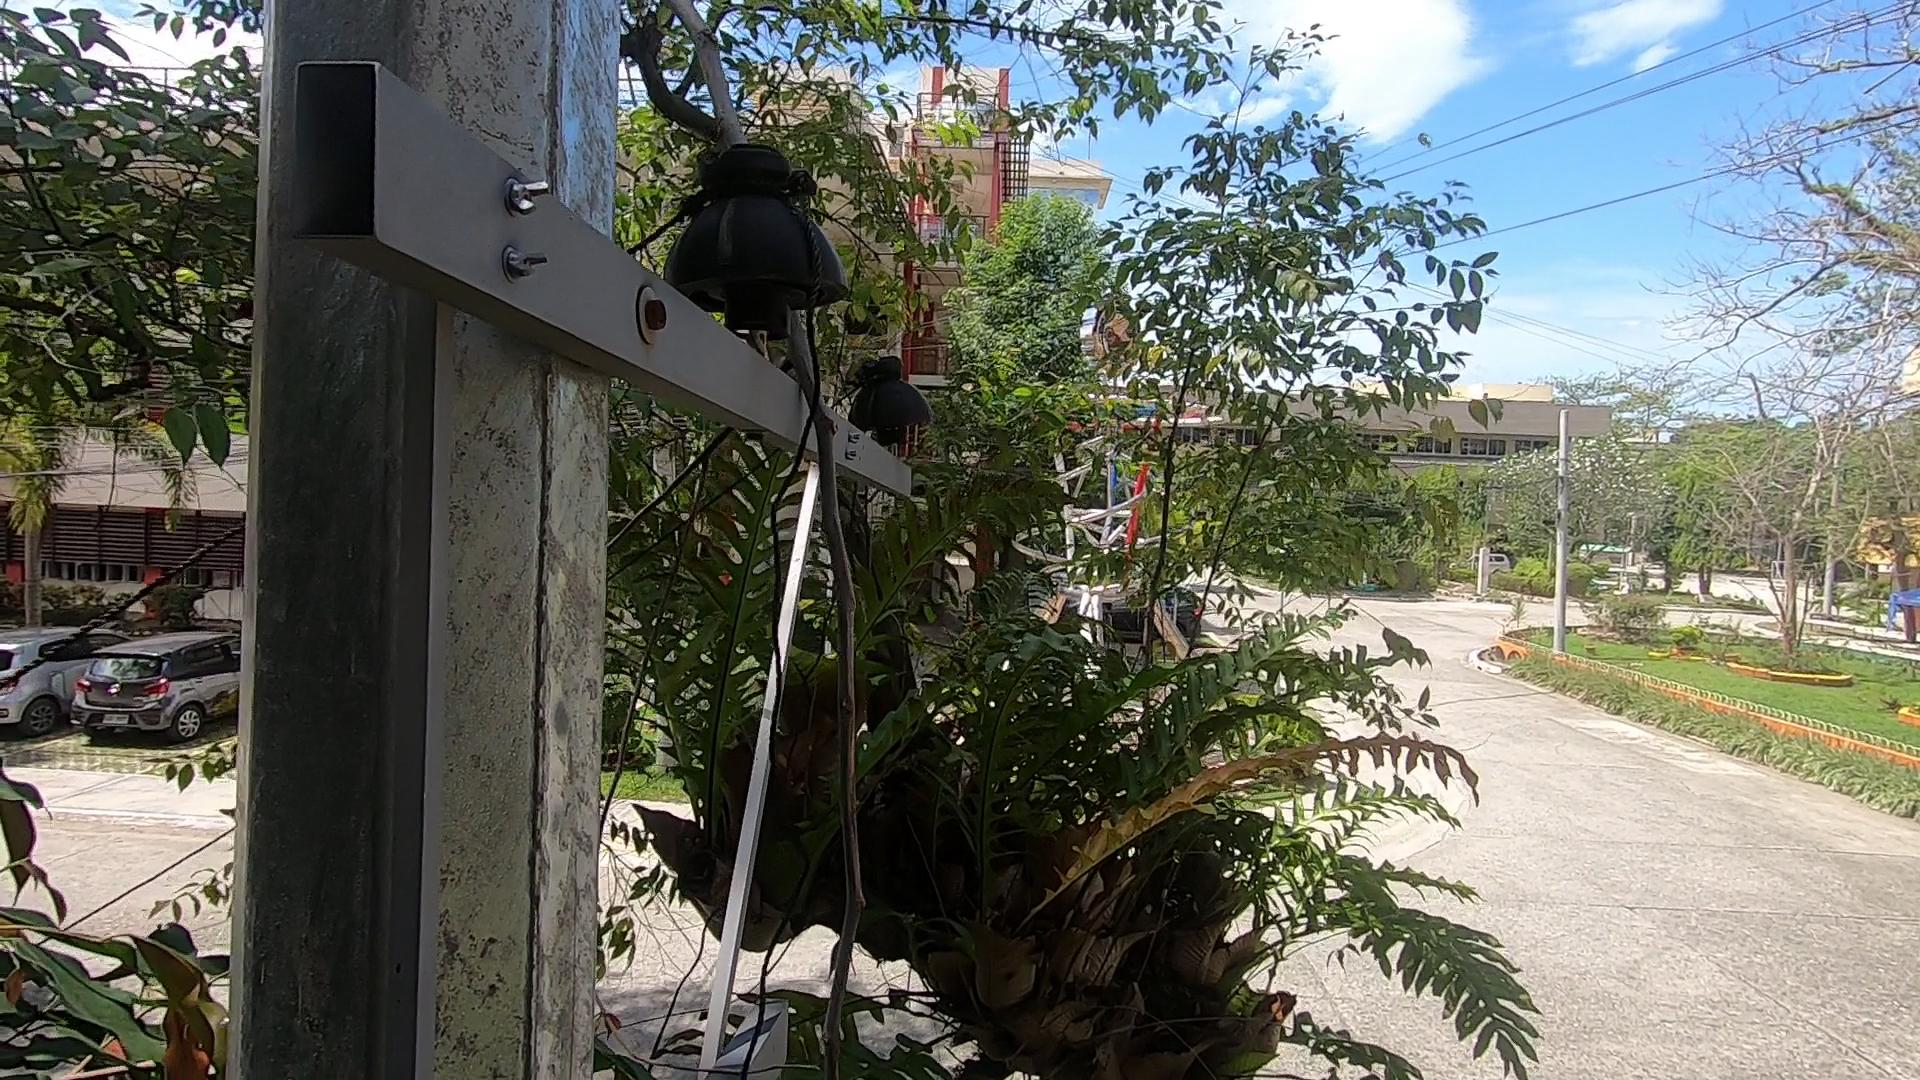tree branch: (636, 11, 978, 1069)
